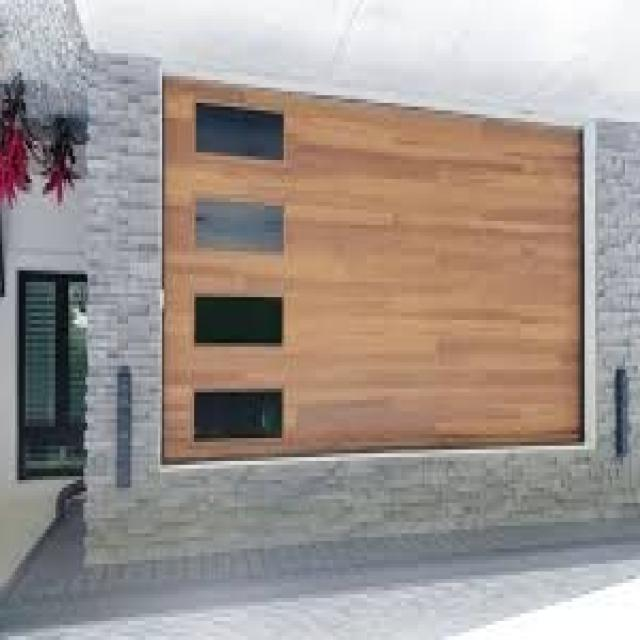door: (161, 76, 588, 465)
